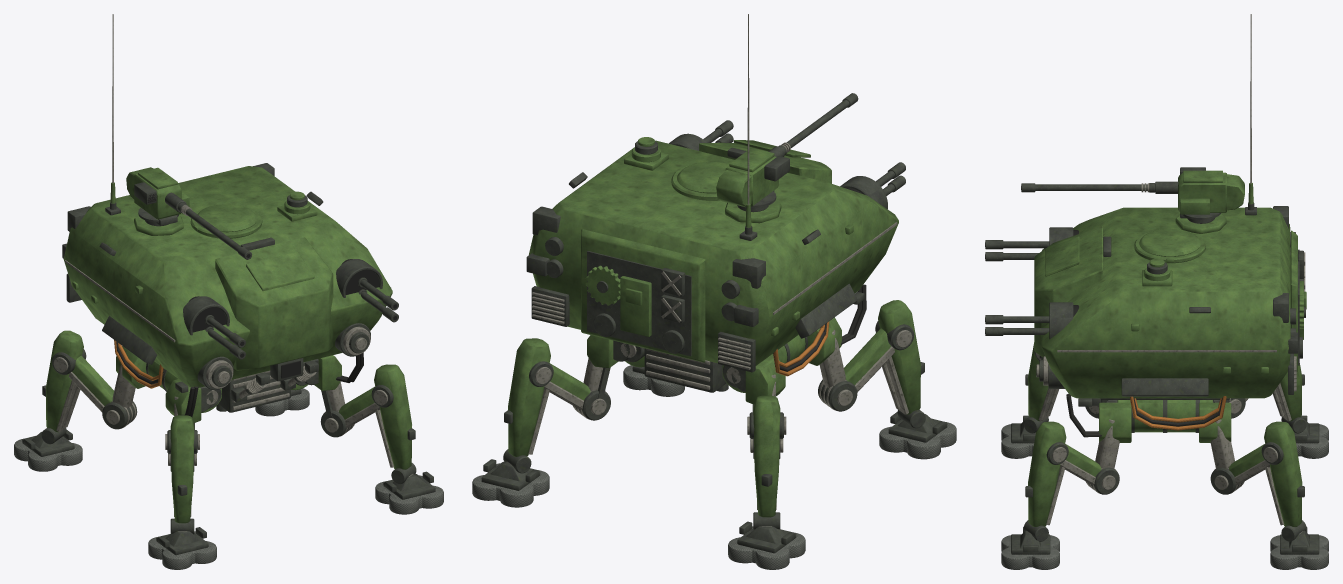
File: boss_act1_mech.glb
3 views of the same model, side by side, from view 1: azimuth 30°, elevation 25°; view 2: azimuth 150°, elevation 25°; view 3: azimuth 270°, elevation 25° (orthographic). The views are drawn at different scales.
Visible parts, largest first — view 1: Hull, Leg_FL_Lower, Chassis, Leg_RR_Lower, Leg_RR_Upper, Turret, Leg_FR_Lower, Leg_FL_Upper, Leg_FR_Foot, Leg_FL_Foot, Leg_RR_Foot, Leg_FR_Upper (+6 smaller); view 2: Hull, Leg_RL_Lower, Leg_FR_Upper, Leg_FR_Lower, Turret, Chassis, Leg_RR_Lower, Leg_RL_Upper, Leg_RR_Foot, Leg_RL_Foot, Leg_FR_Foot, Leg_RR_Upper (+4 smaller); view 3: Hull, Turret, Leg_FL_Lower, Leg_RL_Lower, Leg_FL_Upper, Leg_RL_Upper, Leg_RL_Foot, Leg_FL_Foot, Chassis, Cables_L, Leg_FR_Lower, Turret_Gun (+6 smaller).
Boxes of the visible parts, x1,y1,x2,y2 form: Hull: (62,163,392,392); Leg_FL_Lower: (371,364,416,484); Chassis: (146,360,318,412); Leg_RR_Lower: (41,330,86,444); Leg_RR_Upper: (69,346,146,429); Turret: (126,167,189,235); Leg_FR_Lower: (165,415,199,534); Leg_FL_Upper: (304,355,379,437); Leg_FR_Foot: (148,527,216,569); Leg_FL_Foot: (375,471,443,514); Leg_RR_Foot: (14,429,82,471); Leg_FR_Upper: (165,379,213,471); Hull: (526,133,898,372); Leg_RL_Lower: (503,338,553,473); Leg_FR_Upper: (807,317,894,411); Leg_FR_Lower: (875,300,925,428); Turret: (716,148,789,223); Chassis: (620,335,807,392); Leg_RR_Lower: (747,395,786,529); Leg_RL_Upper: (544,335,629,420); Leg_RR_Foot: (728,521,805,569); Leg_RL_Foot: (472,459,549,507); Leg_FR_Foot: (879,412,956,459); Leg_RR_Upper: (731,355,785,458); Hull: (1034,206,1306,406); Turret: (1175,167,1244,233); Leg_FL_Lower: (1023,421,1068,541); Leg_RL_Lower: (1261,421,1306,541); Leg_FL_Upper: (1060,401,1131,494); Leg_RL_Upper: (1199,401,1269,494); Leg_RL_Foot: (1270,526,1328,569); Leg_FL_Foot: (1001,526,1059,569); Chassis: (1042,359,1230,432); Cables_L: (1066,393,1226,437); Leg_FR_Lower: (1023,342,1059,433); Turret_Gun: (1021,181,1178,193).
Bounding box in the file's own units: 2.96 × 4.6 × 3.17.
7 materials, 4 textured.
